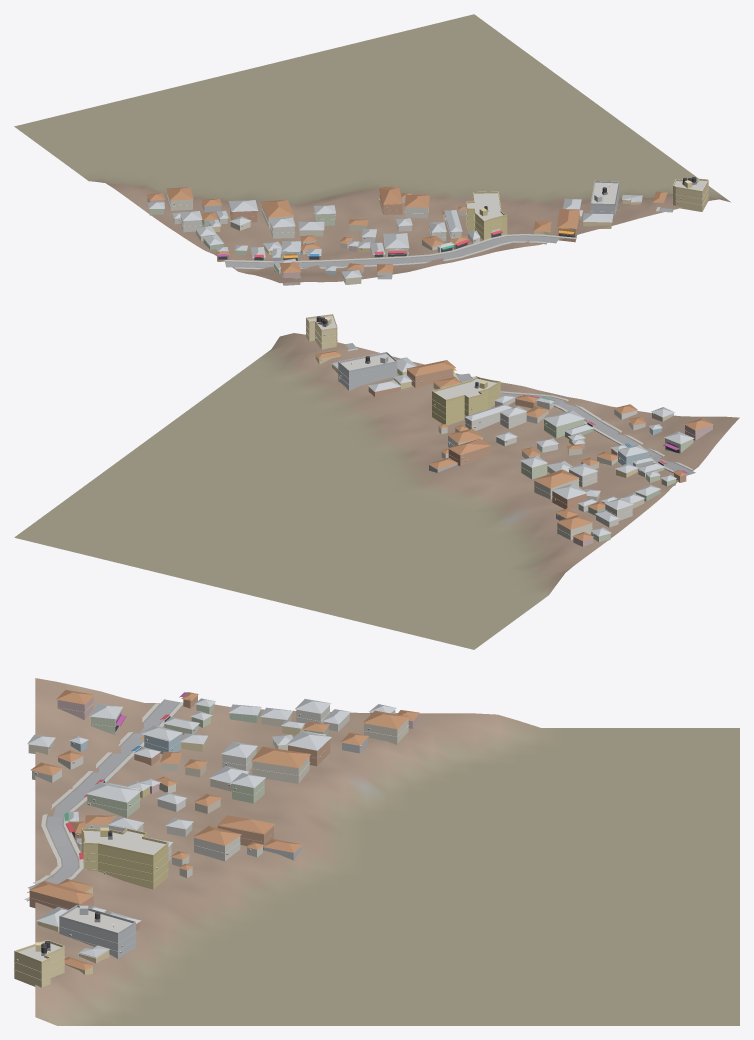
3 views of the same model, one above another, from view 1: azimuth 30°, elevation 25°; view 2: azimuth 150°, elevation 25°; view 3: azimuth 270°, elevation 25° (orthographic). The views are drawn at different scales.
Visible parts, largest first — view 1: Terrain-col, Buildings-col, Details, Roads-col, Sidewalks-col; view 2: Terrain-col, Buildings-col, Details, Roads-col, Sidewalks-col; view 3: Terrain-col, Buildings-col, Details, Roads-col, Sidewalks-col.
Boxes of the visible parts, x1,y1,x2,y2 form: Terrain-col: [14, 14, 730, 283]; Buildings-col: [146, 180, 708, 285]; Details: [167, 177, 708, 278]; Roads-col: [225, 208, 673, 267]; Sidewalks-col: [224, 207, 660, 269]; Terrain-col: [14, 333, 739, 649]; Buildings-col: [306, 316, 713, 546]; Details: [306, 314, 709, 535]; Roads-col: [345, 343, 695, 475]; Sidewalks-col: [347, 348, 693, 473]; Terrain-col: [35, 678, 739, 1025]; Buildings-col: [14, 690, 419, 987]; Details: [14, 692, 408, 980]; Roads-col: [28, 699, 179, 888]; Sidewalks-col: [24, 702, 183, 901].
Size of the model in its own units: 259 by 20.89 by 264.
